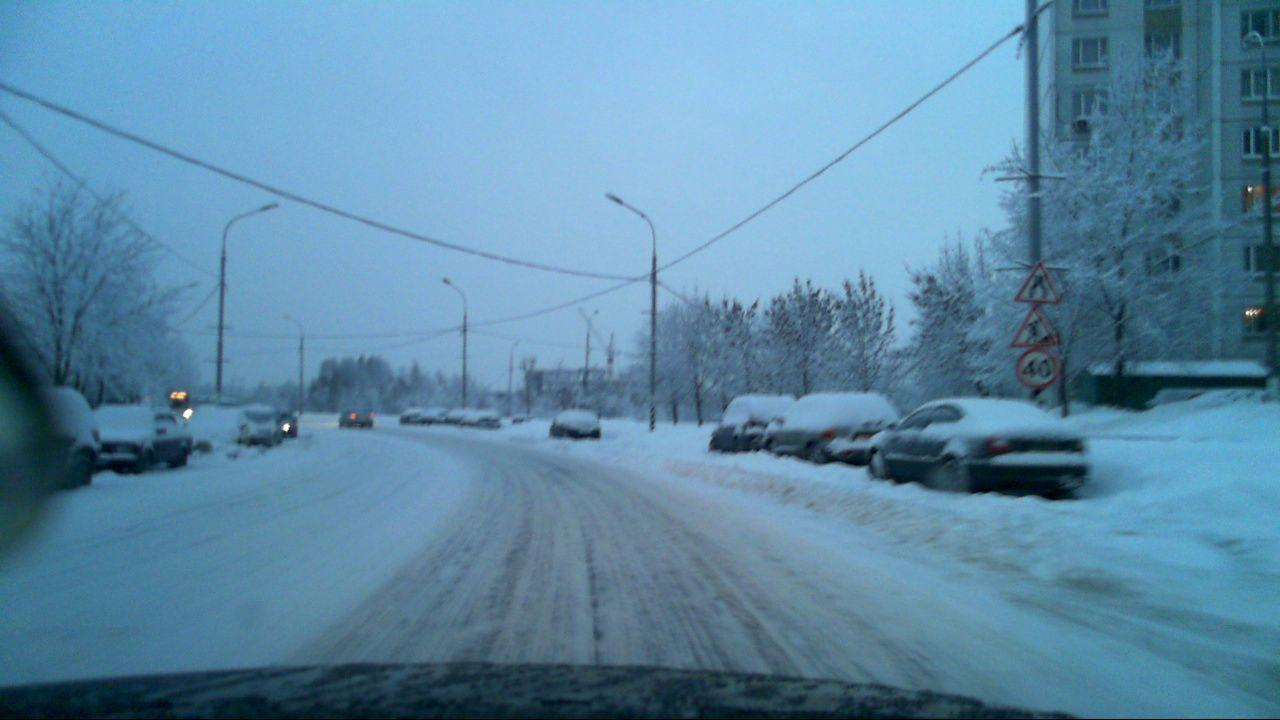1_20_1: (1009, 259, 1063, 303)
1_25: (1008, 302, 1062, 347)
3_24: (1017, 349, 1058, 390)
